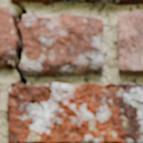brick: (8, 83, 142, 142), (118, 11, 142, 74), (11, 0, 142, 4)
broken_brick: (20, 13, 104, 78), (0, 6, 15, 64), (0, 67, 13, 70)
crack: (0, 2, 27, 140)
